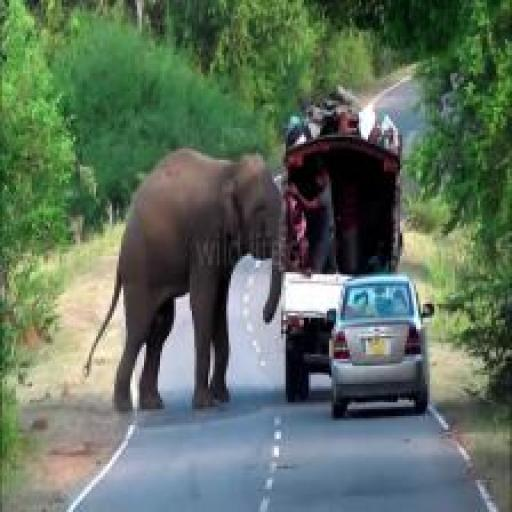Elephant: (75, 133, 288, 466)
